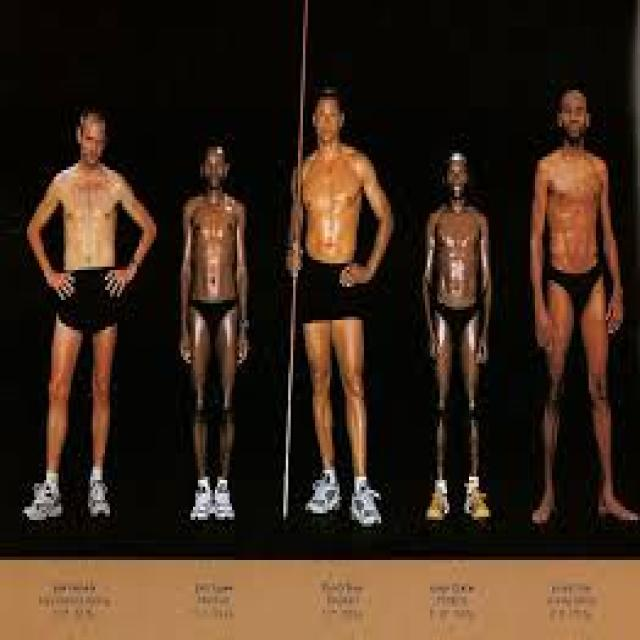standing: (18, 107, 158, 529), (520, 80, 640, 527), (284, 84, 398, 528), (174, 142, 253, 524), (418, 146, 497, 524)
